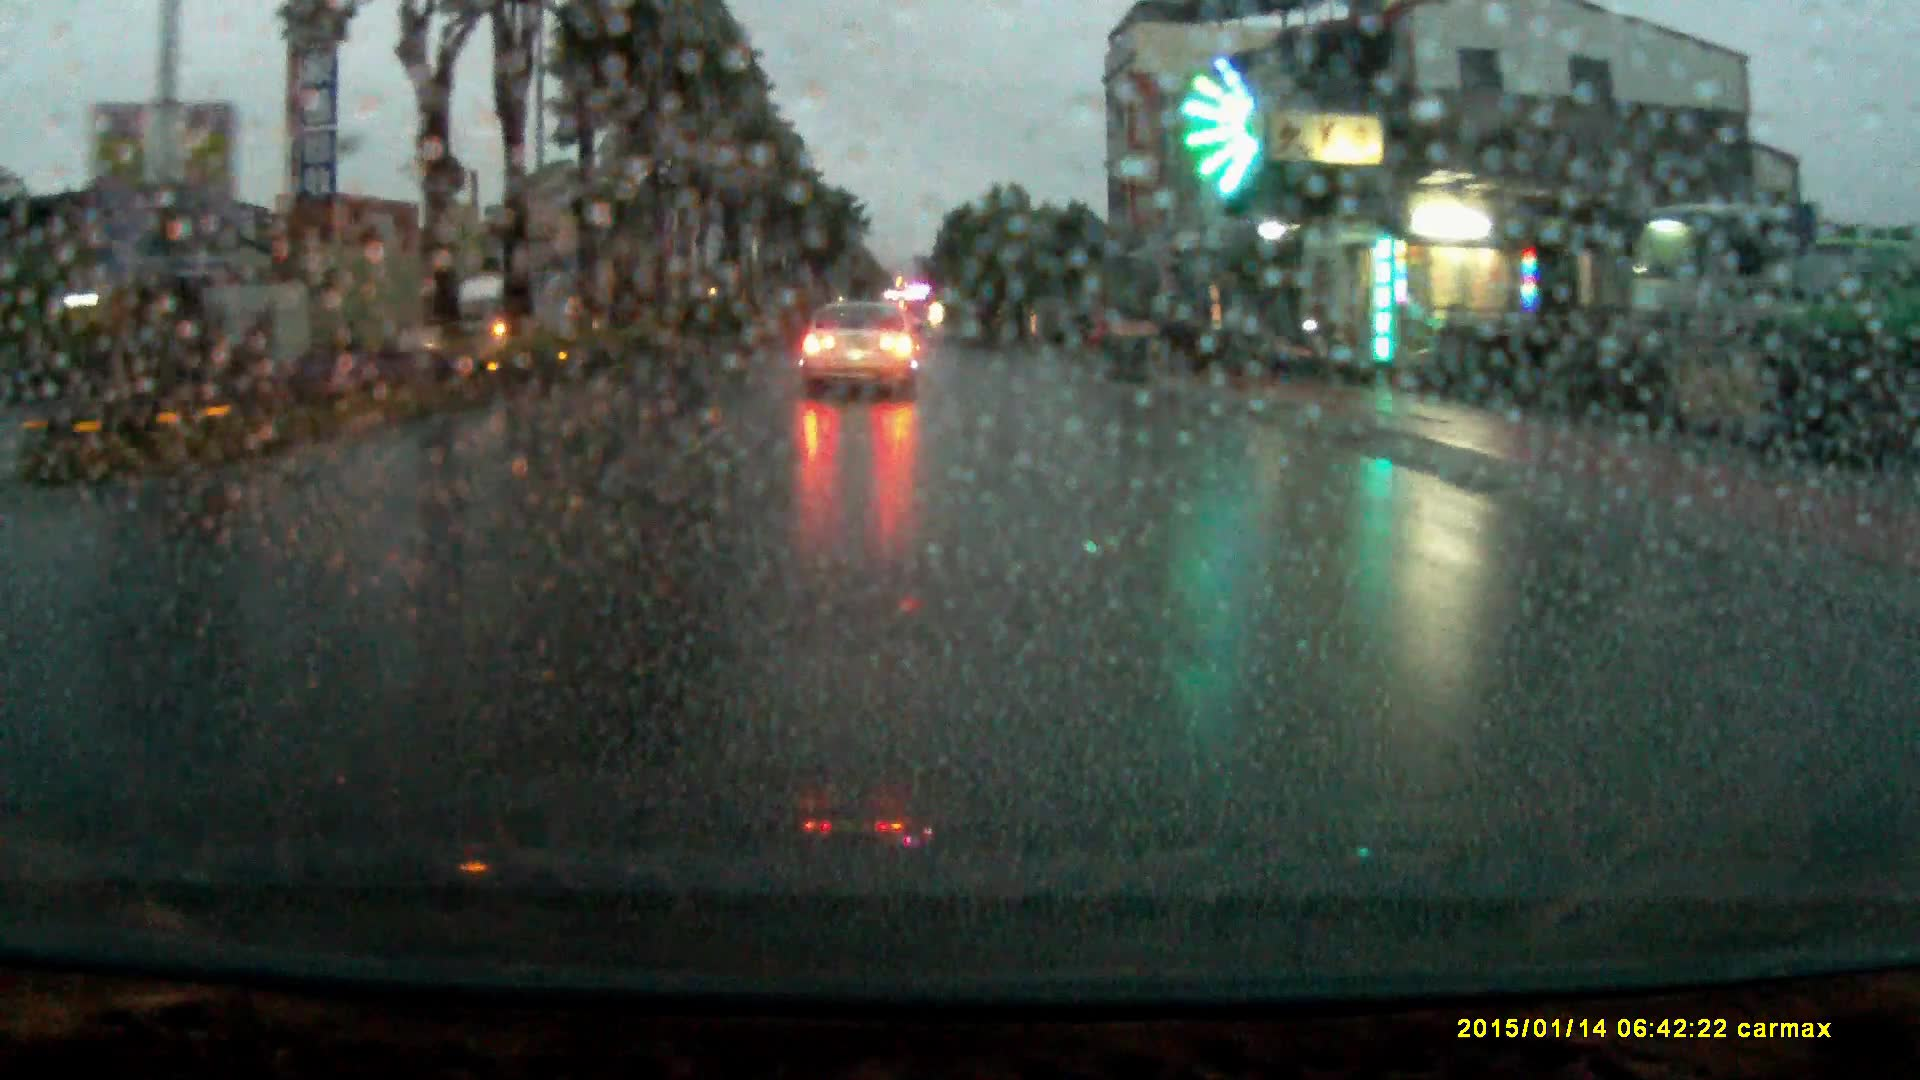vehicle: (1615, 204, 1800, 388), (799, 301, 916, 401), (448, 272, 559, 345), (1025, 299, 1087, 347)
